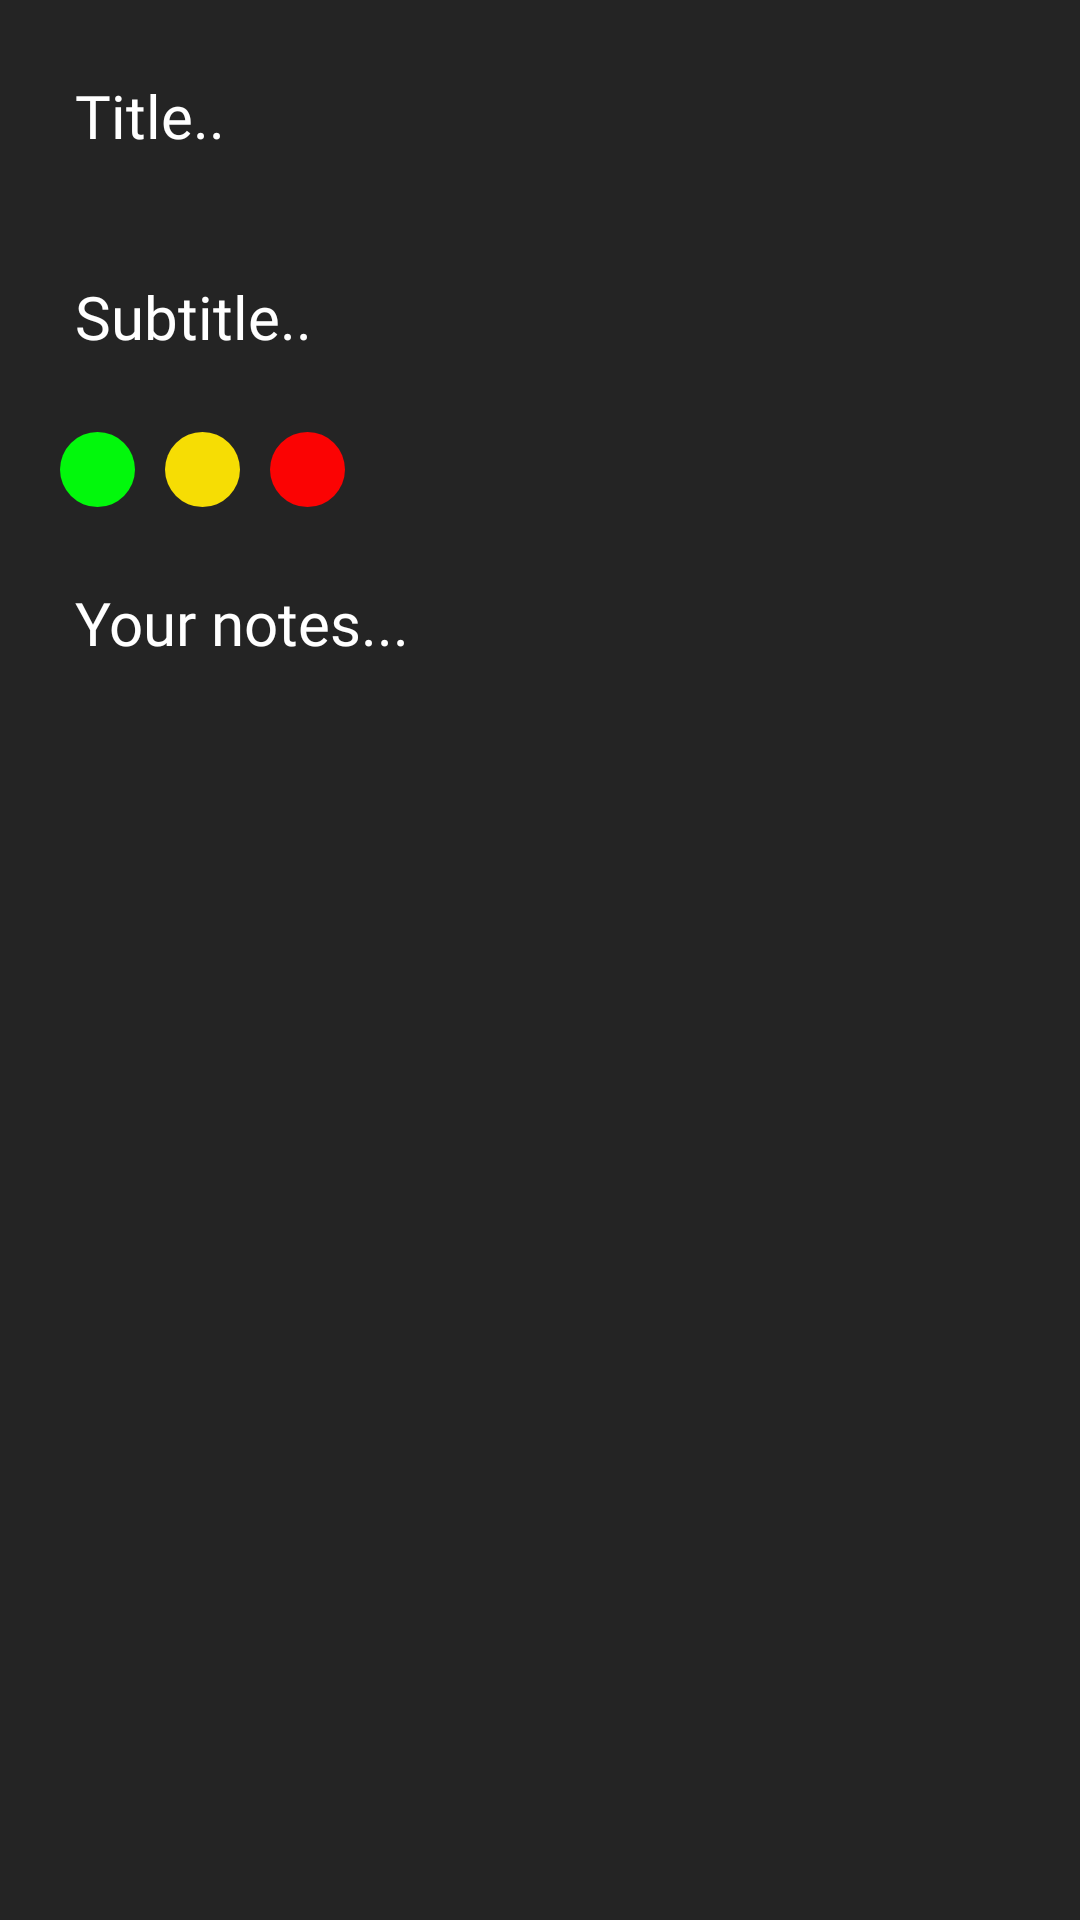

Screen size 1080x1920. Icon name, then its center in pixels as point (x, y):
dot: point (97, 469), point (202, 469), point (307, 469)
